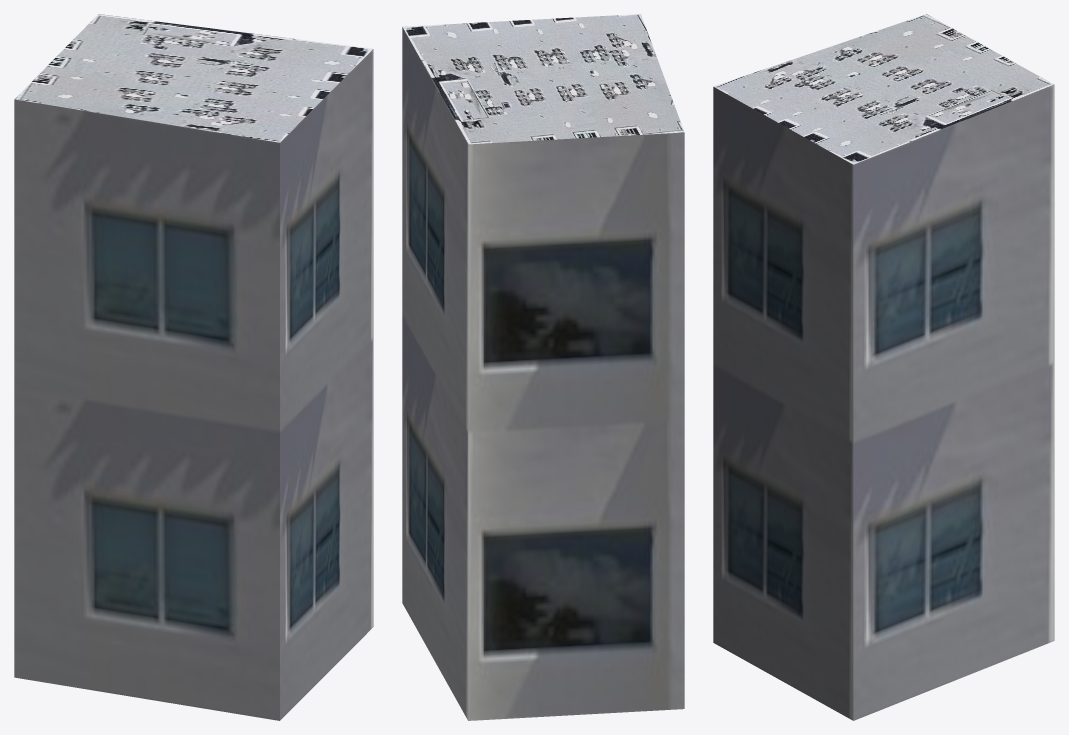
The model's file is ResTex__2511.fbx.
3 views of the same model, side by side, from view 1: azimuth 30°, elevation 25°; view 2: azimuth 150°, elevation 25°; view 3: azimuth 270°, elevation 25° (orthographic). The views are drawn at different scales.
Visible parts, largest first — view 1: CityEngineMaterial_10_m, CityEngineMaterial_2_m; view 2: CityEngineMaterial_10_m, CityEngineMaterial_2_m; view 3: CityEngineMaterial_10_m, CityEngineMaterial_2_m.
Boxes of the visible parts, x1,y1,x2,y2 form: CityEngineMaterial_10_m: (14,49,373,720); CityEngineMaterial_2_m: (15,14,372,142); CityEngineMaterial_10_m: (402,27,684,720); CityEngineMaterial_2_m: (402,14,684,144); CityEngineMaterial_10_m: (713,85,1054,720); CityEngineMaterial_2_m: (713,14,1054,164).
Bounding box in the file's own units: 3.49 × 6 × 3.34.
2 materials, 2 textured.
